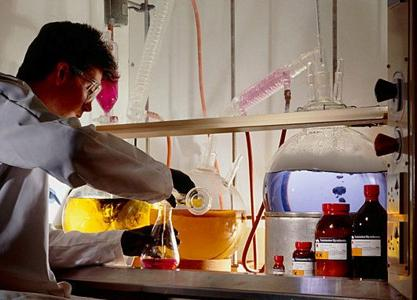person: (1, 22, 199, 299)
